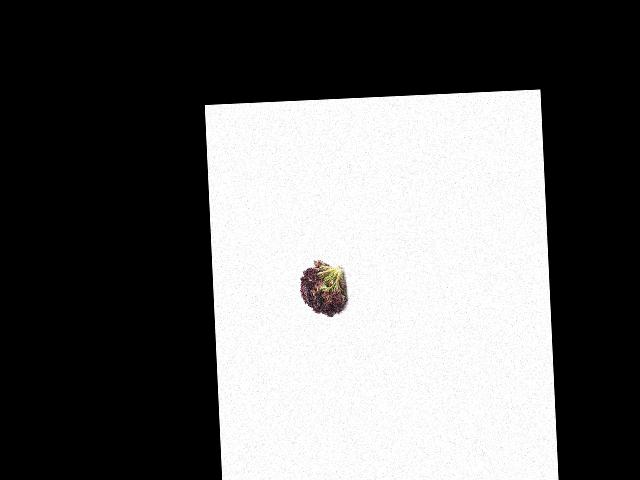lettuce: (297, 261, 351, 321)
